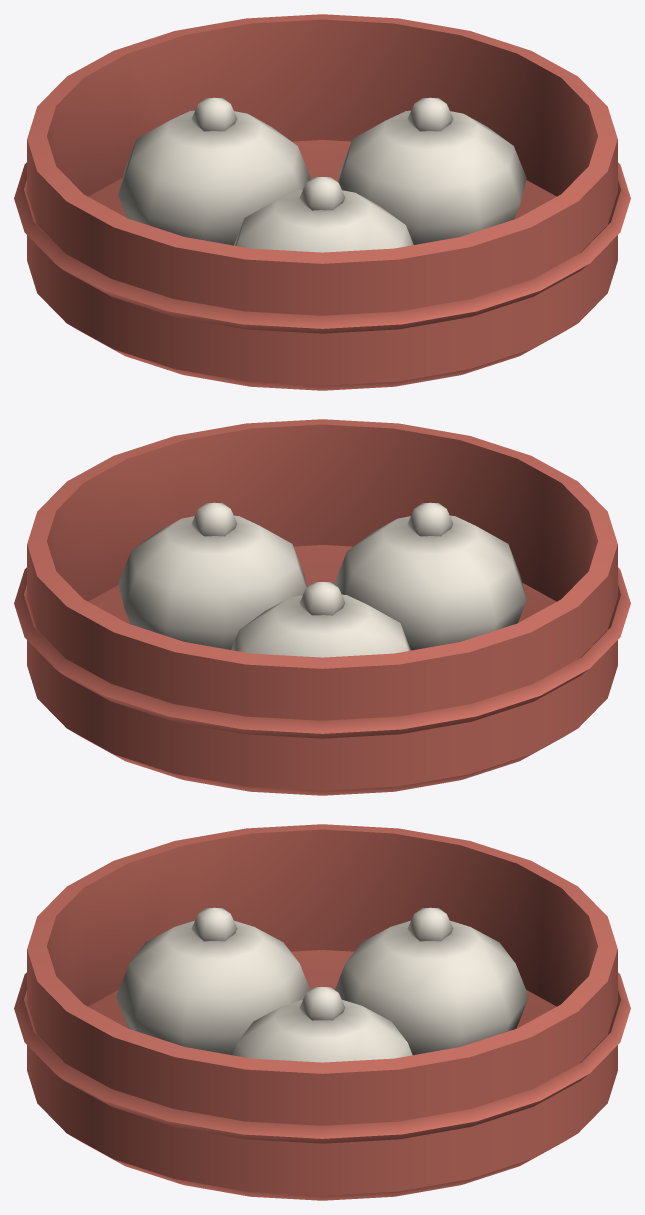
Rendered from dish_steam.glb.
3 renders of one model, top to bottom at view 1: azimuth 30°, elevation 25°; view 2: azimuth 150°, elevation 25°; view 3: azimuth 270°, elevation 25°, orthographic.
Visible parts, largest first — view 1: PART; view 2: PART; view 3: PART.
Part boxes in pixels (bbox=[...]): PART: bbox=[14, 14, 630, 390]; PART: bbox=[14, 419, 630, 795]; PART: bbox=[14, 824, 630, 1200].
Bounding box in the file's own units: 0.188 × 0.0525 × 0.188.
